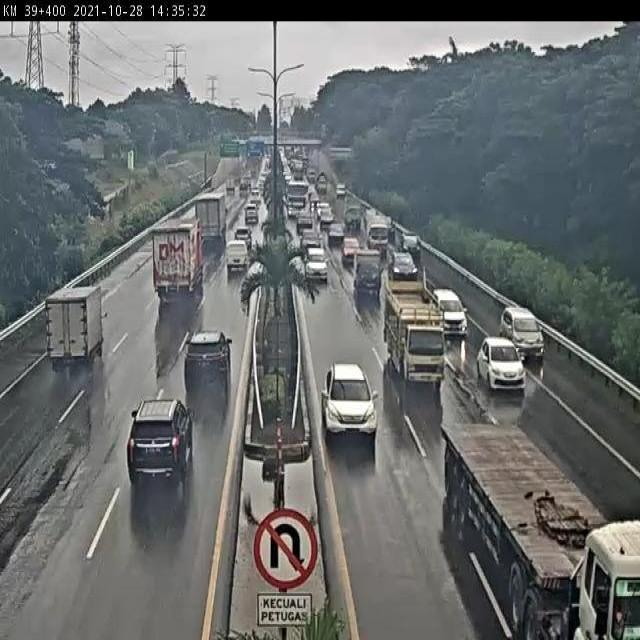big truck: (441, 425, 640, 640), (151, 220, 206, 303), (192, 193, 227, 248), (285, 180, 307, 216)
car: (127, 401, 193, 487), (323, 364, 376, 441), (185, 333, 231, 392), (478, 338, 525, 386), (500, 305, 541, 356), (431, 290, 463, 330), (356, 252, 381, 289), (222, 244, 247, 275), (305, 248, 329, 280), (395, 231, 419, 260), (387, 252, 413, 277), (341, 233, 359, 263), (231, 231, 252, 252), (243, 206, 260, 226), (296, 212, 312, 229), (302, 228, 318, 245), (321, 211, 334, 229), (328, 223, 341, 241), (316, 199, 327, 213)
small truck: (387, 284, 446, 383), (47, 286, 104, 366), (366, 215, 390, 249), (343, 199, 362, 228)
